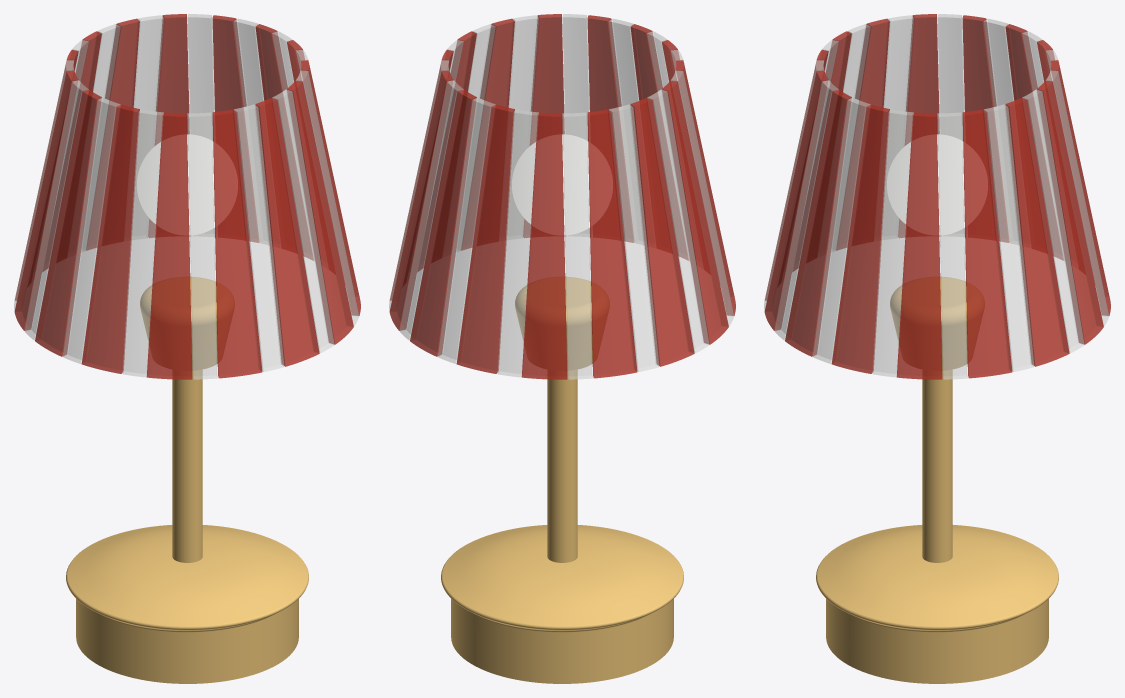
File: madeleine-v.glb
The picture shows the model from 3 angles, left to right: view 1: azimuth 30°, elevation 25°; view 2: azimuth 150°, elevation 25°; view 3: azimuth 270°, elevation 25°; orthographic projection.
Visible parts, largest first — view 1: Madeleine V.; view 2: Madeleine V.; view 3: Madeleine V..
Part boxes in pixels (x1,y1,x2,y2): Madeleine V.: (14, 14, 360, 683); Madeleine V.: (389, 14, 735, 683); Madeleine V.: (764, 14, 1110, 683).
Size of the model in its own units: 0.137 by 0.249 by 0.137.
